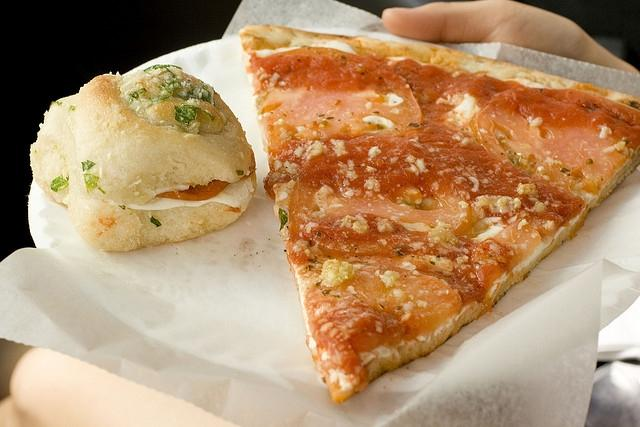tomato: (470, 87, 640, 195), (251, 48, 421, 146), (342, 262, 462, 341), (324, 194, 472, 234), (156, 150, 256, 202), (491, 219, 541, 269)
